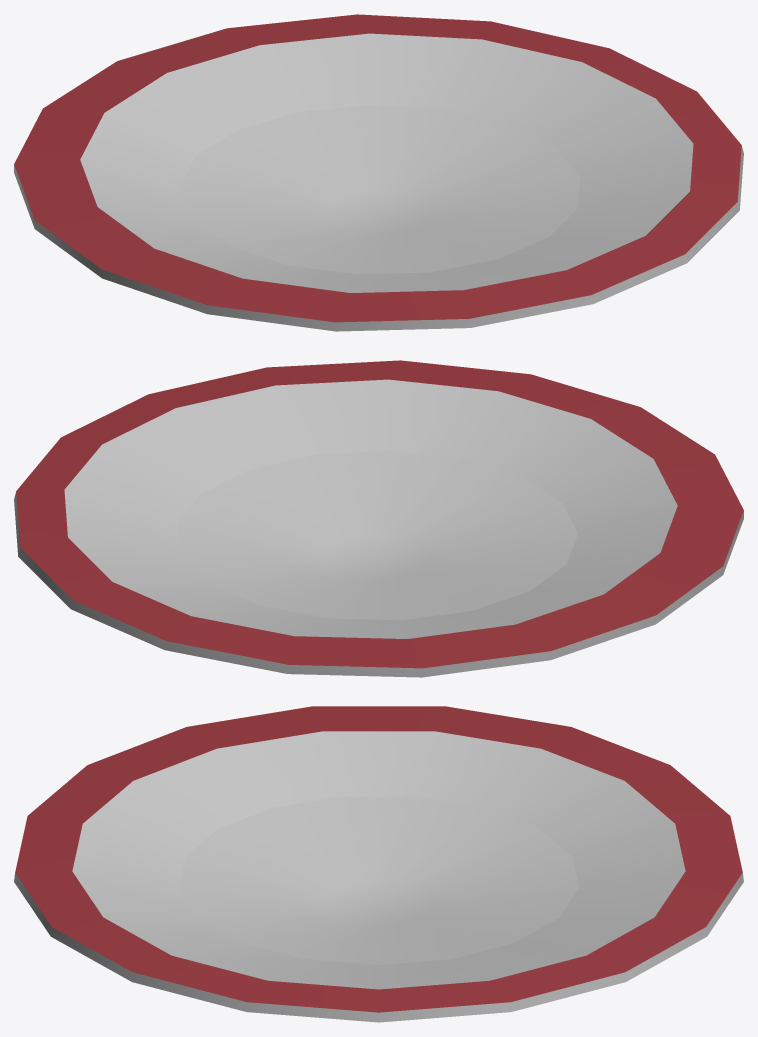
File: Large Plate.fbx
The picture shows the model from 3 angles, top to bottom: view 1: azimuth 30°, elevation 25°; view 2: azimuth 150°, elevation 25°; view 3: azimuth 270°, elevation 25°; orthographic projection.
Visible parts, largest first — view 1: bigplate; view 2: bigplate; view 3: bigplate.
Part boxes in pixels (x1,y1,x2,y2): bigplate: [14, 14, 743, 331]; bigplate: [14, 360, 743, 677]; bigplate: [14, 706, 743, 1022].
Size of the model in its own units: 40.68 by 40.85 by 3.76.
